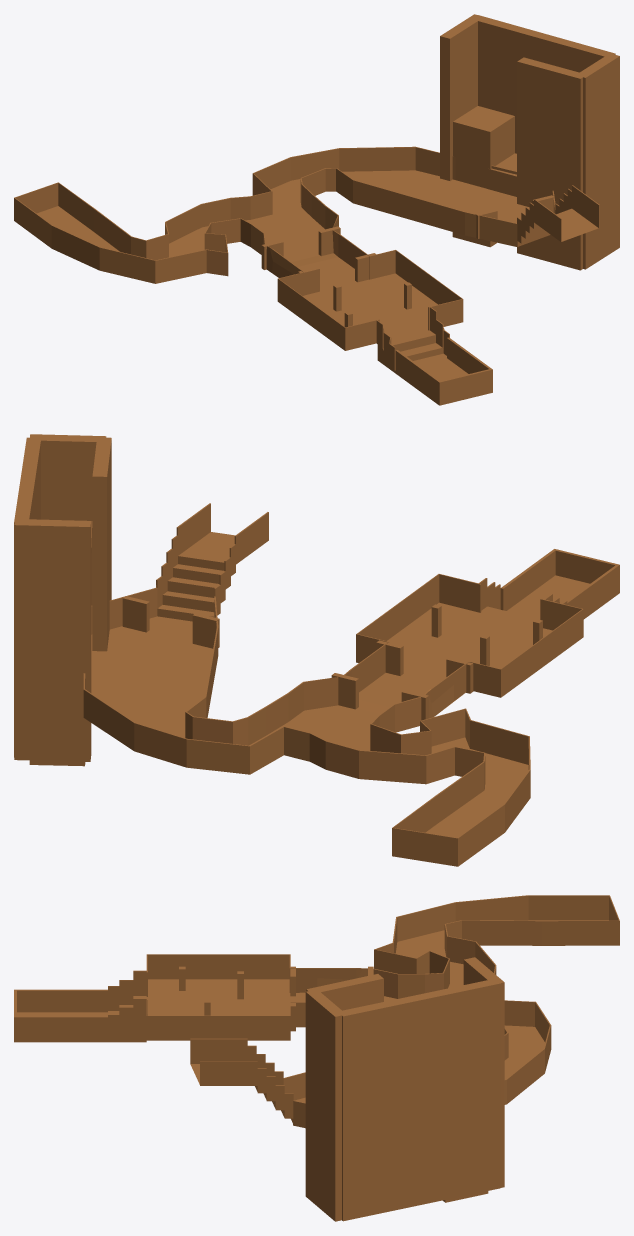
The model's file is Level3.fbx.
The picture shows the model from 3 angles, top to bottom: view 1: azimuth 30°, elevation 25°; view 2: azimuth 150°, elevation 25°; view 3: azimuth 270°, elevation 25°; orthographic projection. The views are drawn at different scales.
Parts seen in each view (by area): view 1: Plane.001, Plane.000; view 2: Plane.001, Plane.000; view 3: Plane.001, Plane.000.
Part boxes in pixels (bbox=[...]): Plane.001: bbox=[37, 14, 619, 405]; Plane.000: bbox=[14, 146, 599, 370]; Plane.001: bbox=[14, 434, 619, 837]; Plane.000: bbox=[83, 503, 583, 866]; Plane.001: bbox=[14, 920, 608, 1221]; Plane.000: bbox=[108, 895, 619, 1128].
Bounding box in the file's own units: 21246 × 8500 × 21838.
